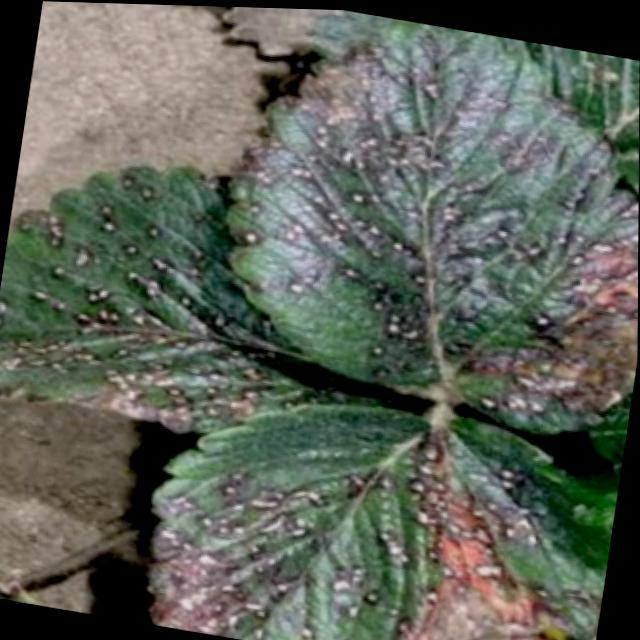Leaf Spot: (223, 15, 639, 435), (144, 400, 616, 640), (0, 162, 375, 434), (564, 45, 640, 195)
